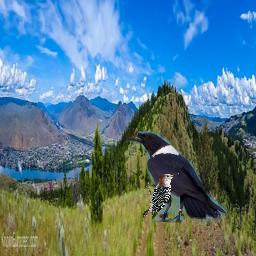Crow: (126, 131, 227, 223)
Woodpecker: (143, 173, 179, 219)
